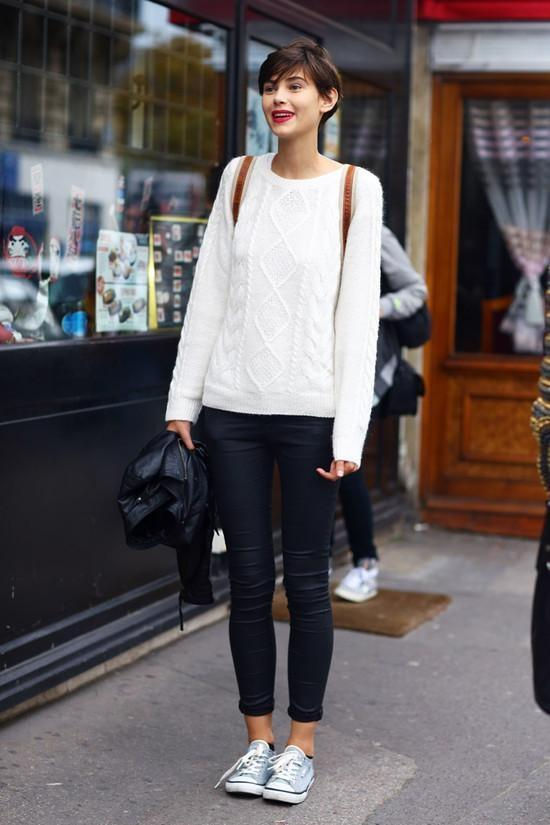pants: (200, 403, 338, 721)
sweater: (166, 152, 384, 468)
